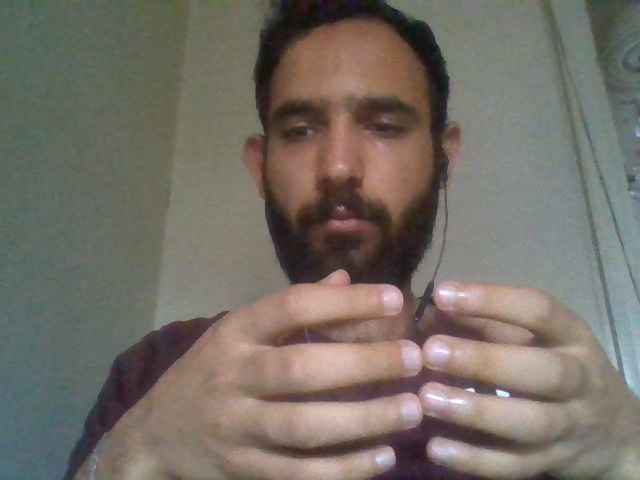Story: (232, 260, 606, 480)
